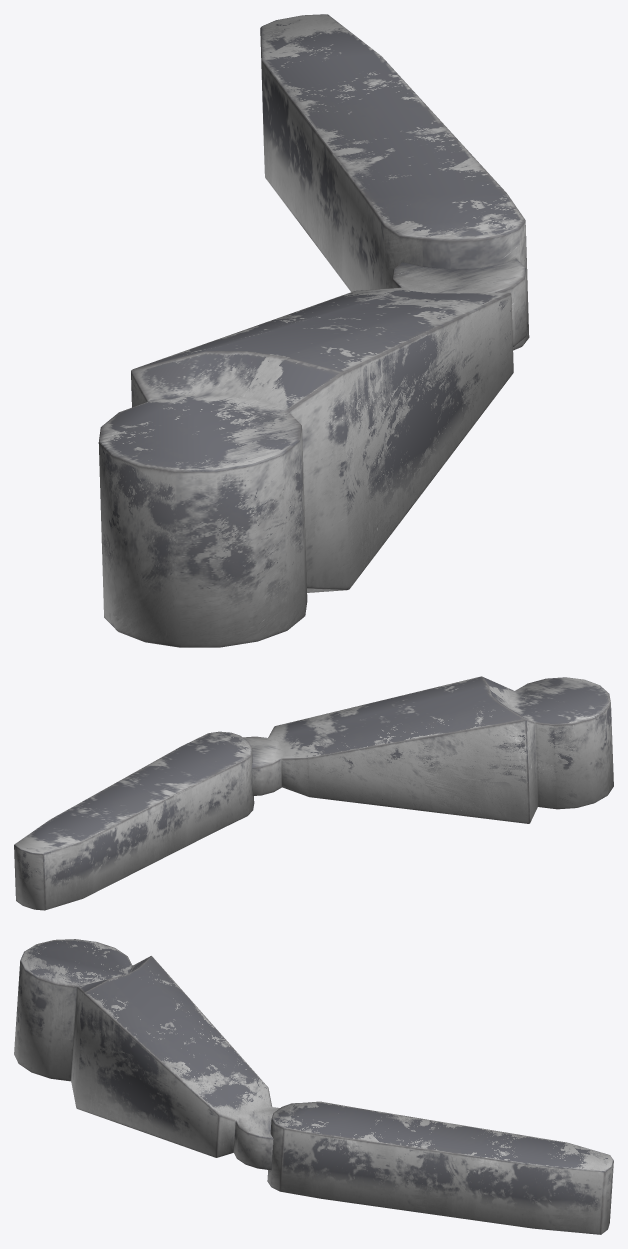
Rendered from bot_part_04.gltf.
The picture shows the model from 3 angles, top to bottom: view 1: azimuth 30°, elevation 25°; view 2: azimuth 150°, elevation 25°; view 3: azimuth 270°, elevation 25°; orthographic projection. The views are drawn at different scales.
Parts seen in each view (by area): view 1: bot_part_04; view 2: bot_part_04; view 3: bot_part_04.
Part boxes in pixels (x1,y1,x2,y2): bot_part_04: [98, 14, 529, 647]; bot_part_04: [14, 676, 613, 910]; bot_part_04: [14, 939, 613, 1234].
Size of the model in its own units: 0.6821 by 0.2186 by 0.9235.
1 material, 1 textured.
